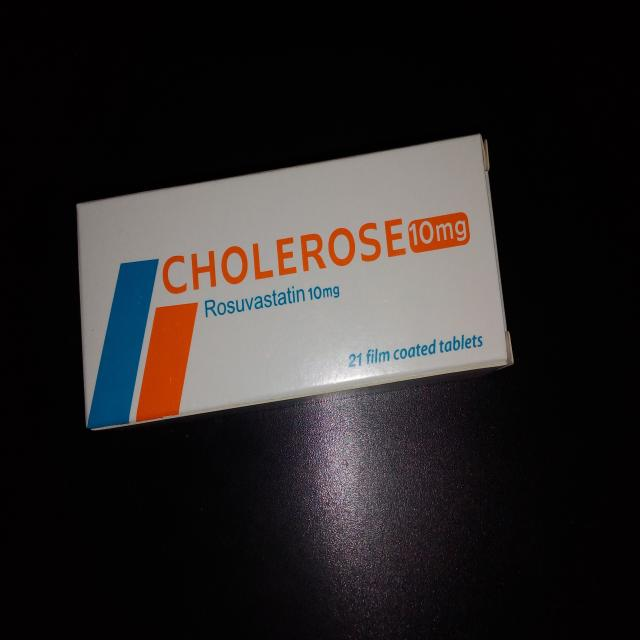Medicine: (76, 127, 516, 434)
